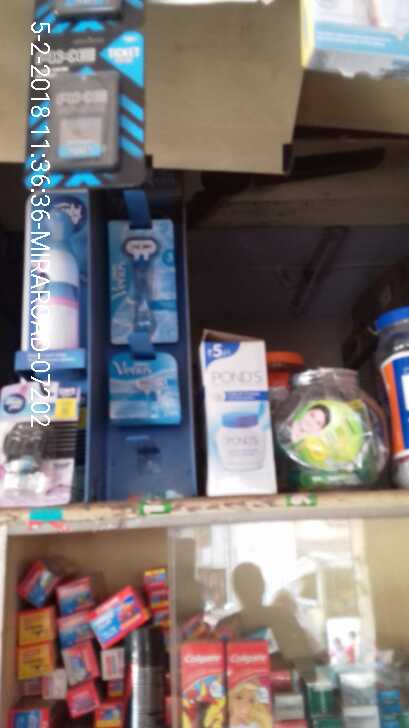beauty: (106, 216, 180, 348), (106, 354, 182, 426)
home: (1, 388, 75, 509), (35, 210, 80, 354)
